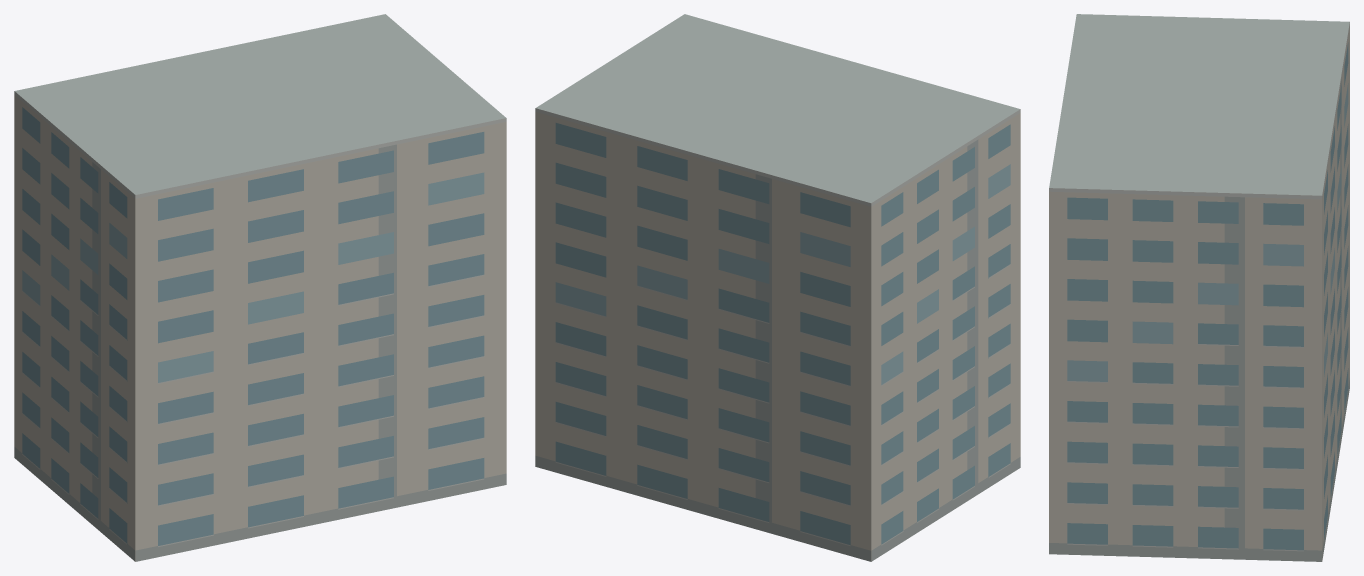
The model's file is residential-78fee1bb-3809-42b5-becb-e269907d8e45.glb.
The picture shows the model from 3 angles, left to right: view 1: azimuth 30°, elevation 25°; view 2: azimuth 150°, elevation 25°; view 3: azimuth 270°, elevation 25°; orthographic projection. The views are drawn at different scales.
Parts seen in each view (by area): view 1: residential-78fee1bb-3809-42b5-becb-e269907d8e45.tmp; view 2: residential-78fee1bb-3809-42b5-becb-e269907d8e45.tmp; view 3: residential-78fee1bb-3809-42b5-becb-e269907d8e45.tmp.
Part boxes in pixels (x1=…): residential-78fee1bb-3809-42b5-becb-e269907d8e45.tmp: x1=14, y1=14, x2=506, y2=561; residential-78fee1bb-3809-42b5-becb-e269907d8e45.tmp: x1=535, y1=14, x2=1020, y2=561; residential-78fee1bb-3809-42b5-becb-e269907d8e45.tmp: x1=1049, y1=14, x2=1349, y2=561.
Size of the model in its own units: 25.56 by 24 by 17.88.
